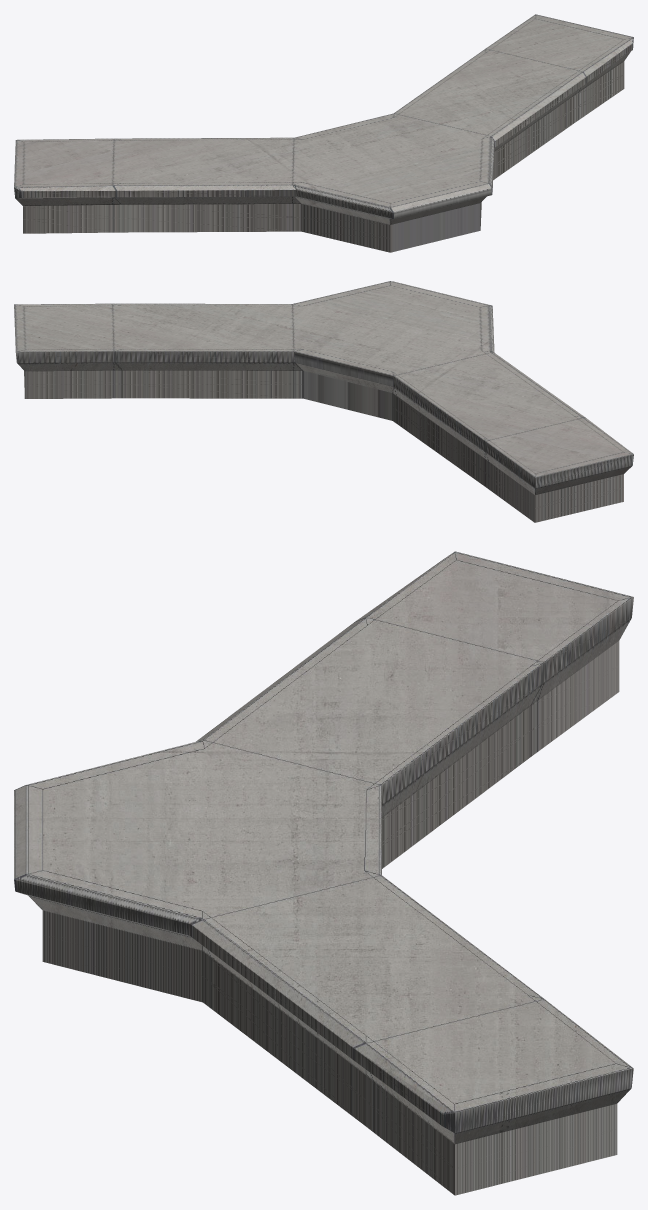
Rendered from topdoor.FBX.
3 renders of one model, top to bottom at view 1: azimuth 30°, elevation 25°; view 2: azimuth 150°, elevation 25°; view 3: azimuth 270°, elevation 25°, orthographic. The views are drawn at different scales.
Parts seen in each view (by area): view 1: NGon001; view 2: NGon001; view 3: NGon001.
Boxes of the visible parts, box(x1,y1,x2,y2) form: NGon001: box(14, 14, 633, 252); NGon001: box(14, 281, 633, 522); NGon001: box(14, 551, 633, 1195).
Size of the model in its own units: 263 by 20.8 by 123.
1 material, 1 textured.
